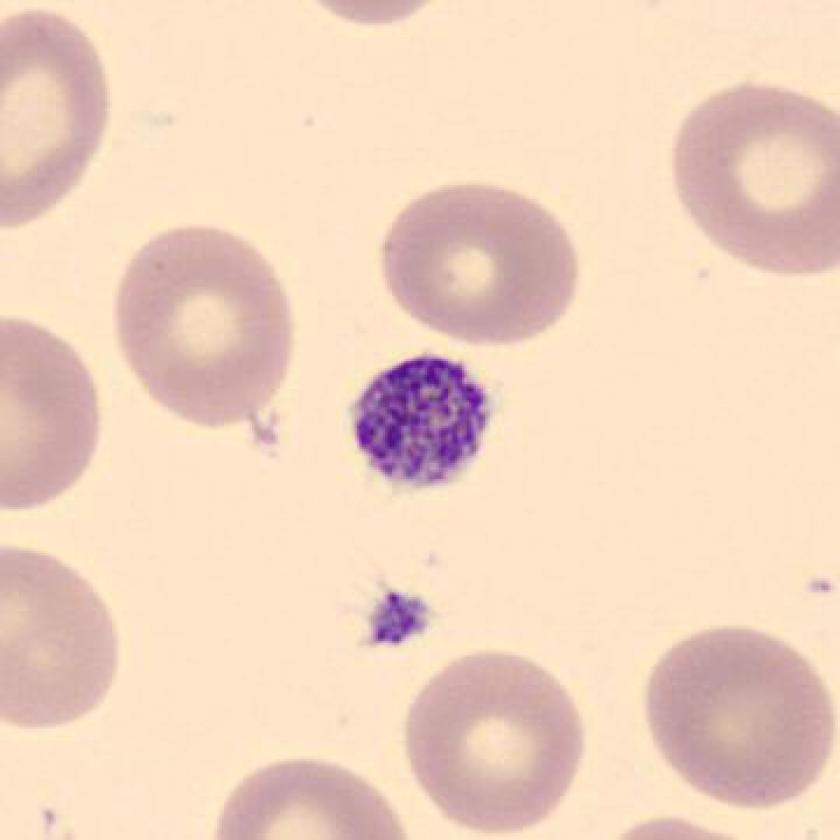platelets: (342, 346, 505, 501), (349, 571, 451, 668)
